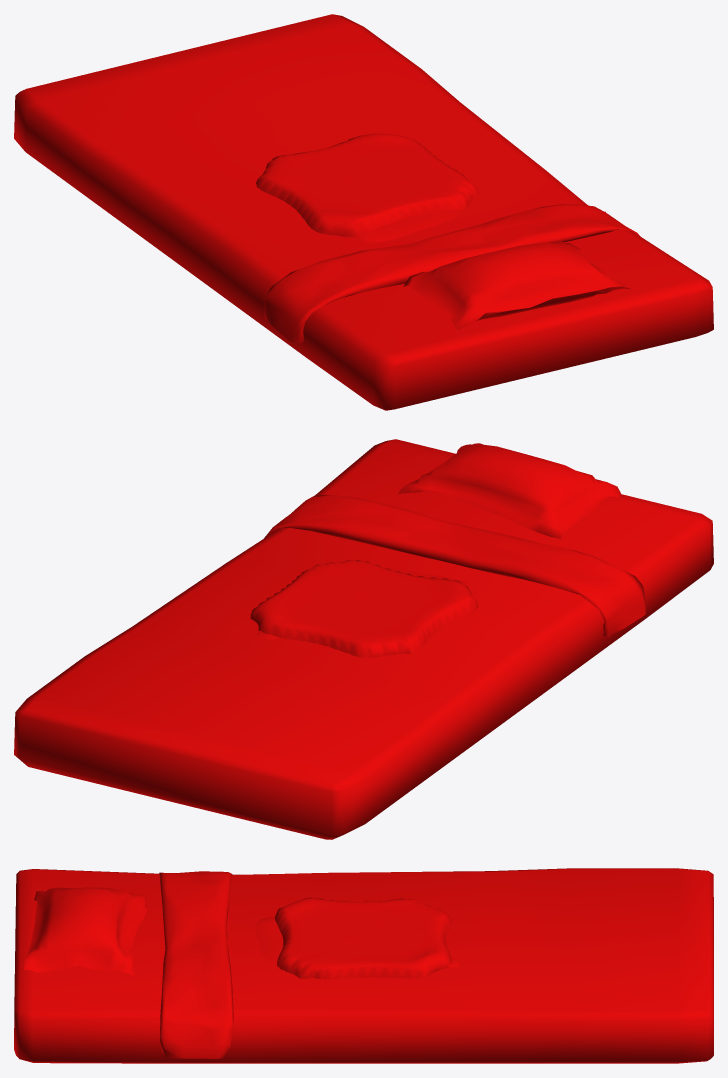
Rendered from Fabrics.fbx.
3 renders of one model, top to bottom at view 1: azimuth 30°, elevation 25°; view 2: azimuth 150°, elevation 25°; view 3: azimuth 270°, elevation 25°, orthographic. The views are drawn at different scales.
Visible parts, largest first — view 1: BLANKET, TABLE_CLOTH, TABLE_CLOTH1; view 2: BLANKET, TABLE_CLOTH; view 3: BLANKET, TABLE_CLOTH, TABLE_CLOTH1.
Boxes of the visible parts, left/top/right/bottom form: BLANKET: left=14, top=14, right=713, bottom=410; TABLE_CLOTH: left=256, top=133, right=479, bottom=237; TABLE_CLOTH1: left=355, top=209, right=459, bottom=242; BLANKET: left=14, top=439, right=713, bottom=839; TABLE_CLOTH: left=250, top=560, right=478, bottom=657; BLANKET: left=14, top=868, right=713, bottom=1063; TABLE_CLOTH: left=275, top=897, right=451, bottom=979; TABLE_CLOTH1: left=255, top=916, right=460, bottom=967.
Bounding box in the file's own units: 207 × 54.56 × 377.
